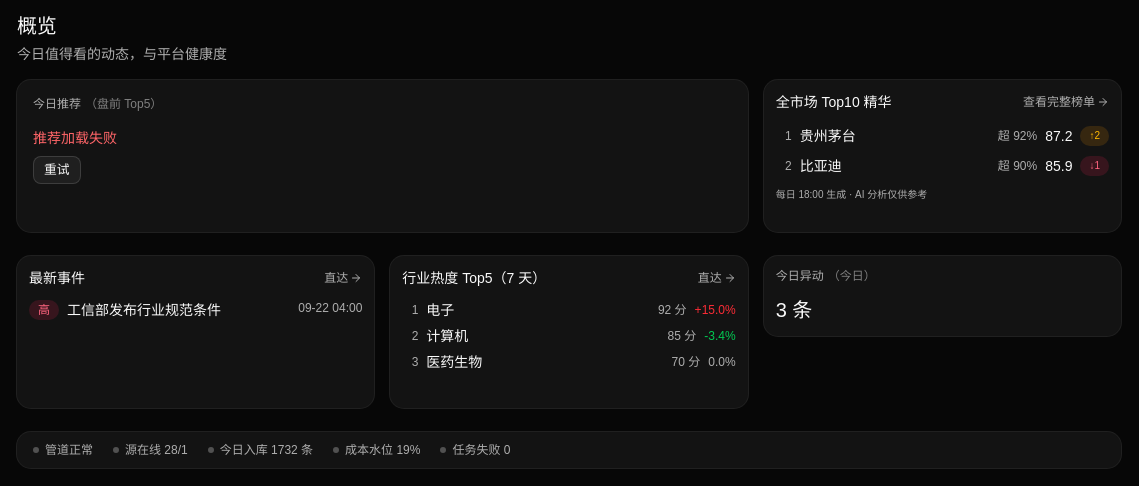
Overview 今日推荐主位（保留零回归） › 推荐卡·错误：只读判读失败显示错误，重试恢复
Check: the element with test id "rec-error" shows "推荐加载失败", box [33,130,117,146]
Check: the element with test id "stat-card-anomaly" shows "3 条", box [776,299,812,321]
Click the button with test id "rec-retry".
click(57, 170)  # box [33,156,81,184]
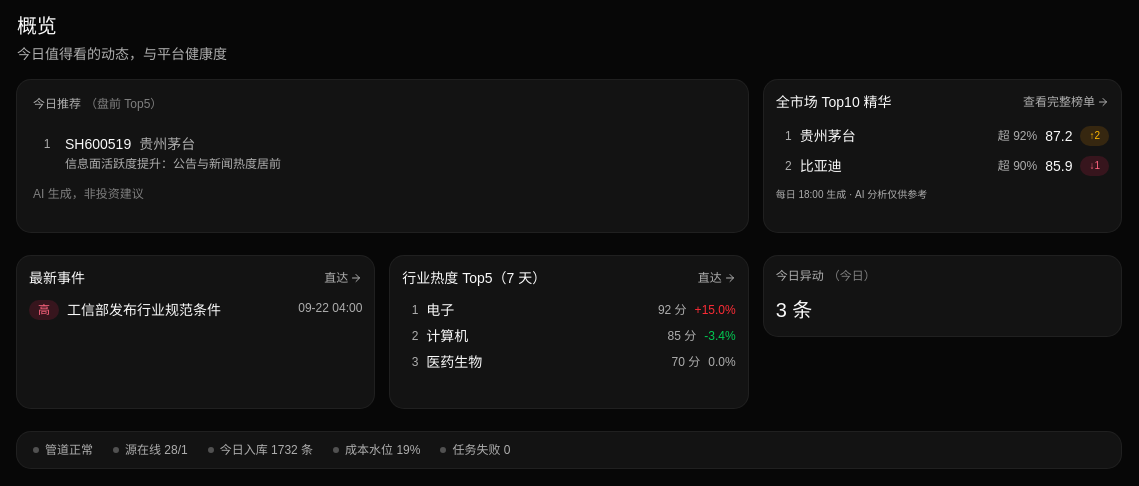
Check: the link with test id "rec-item-1" is shown, box [44,136,281,171]
